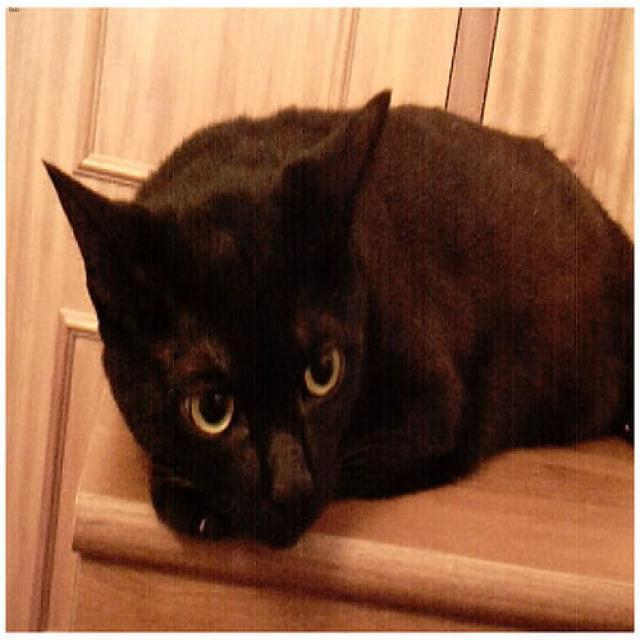Bombay: (39, 70, 440, 562)
